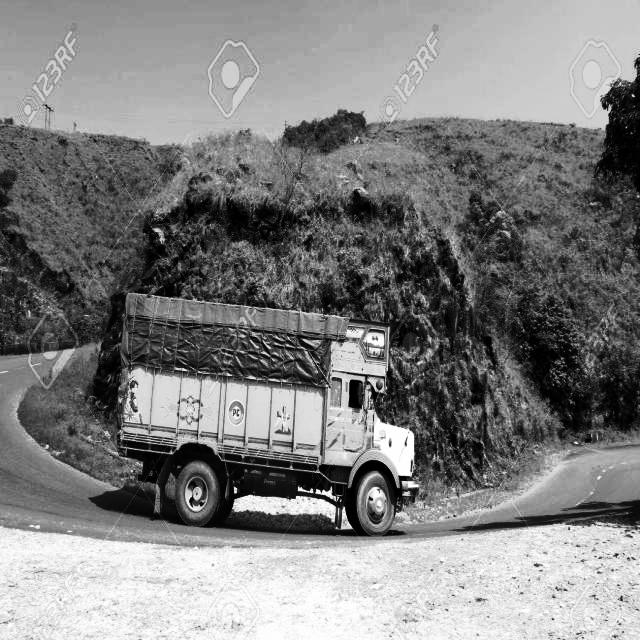HCV: (101, 228, 461, 562)
